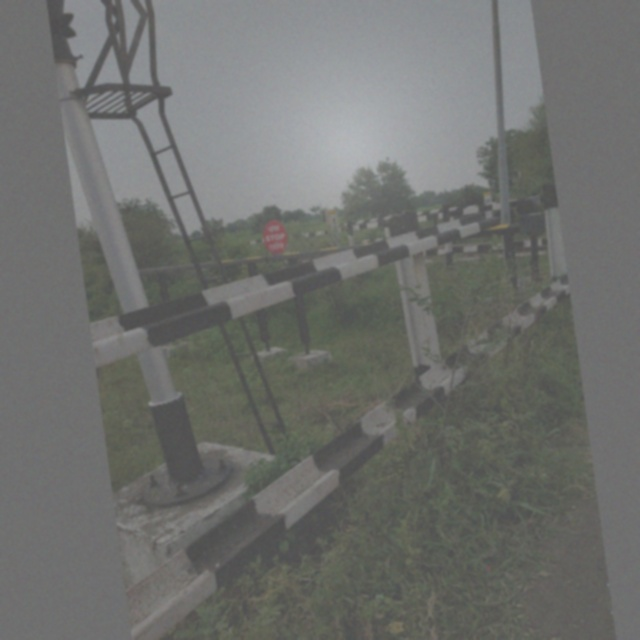Stop: (260, 218, 290, 256)
